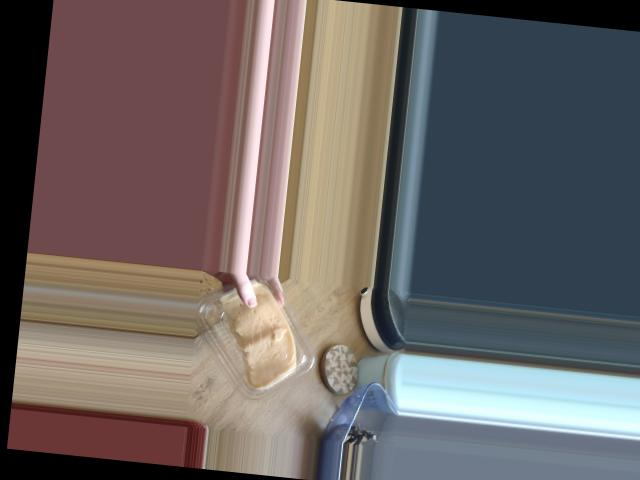cheese: (190, 279, 332, 420)
